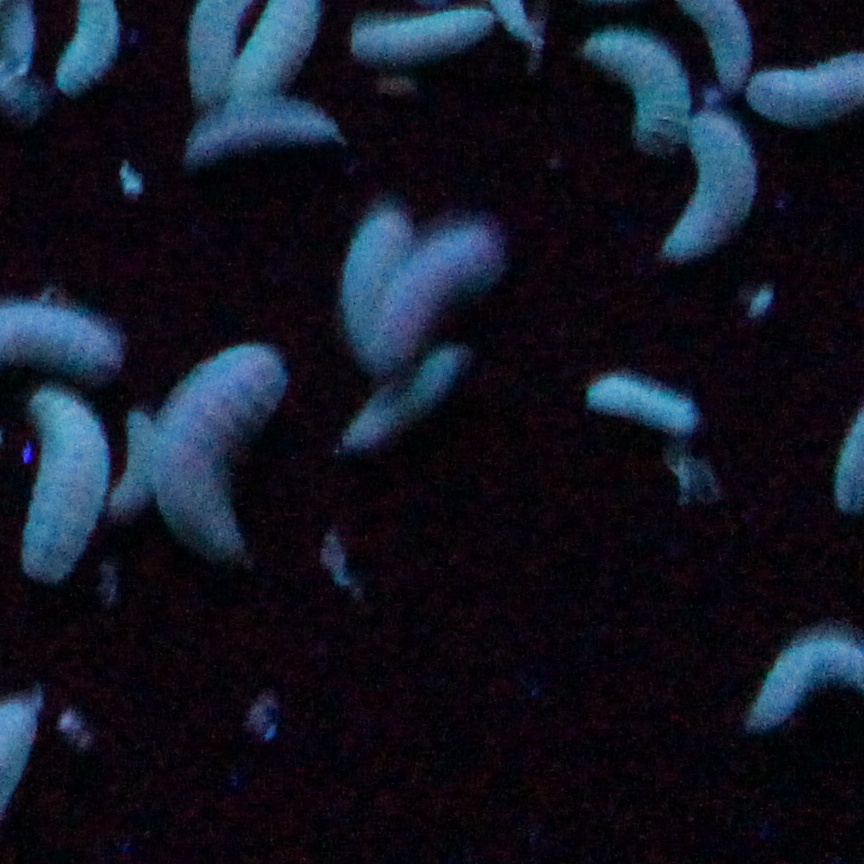larve: (153, 345, 288, 565), (388, 208, 497, 359), (26, 390, 104, 583), (662, 108, 759, 261), (577, 25, 693, 148), (344, 352, 470, 450), (177, 96, 342, 165), (344, 210, 415, 370), (359, 5, 495, 59), (582, 372, 695, 432), (117, 414, 159, 514)
